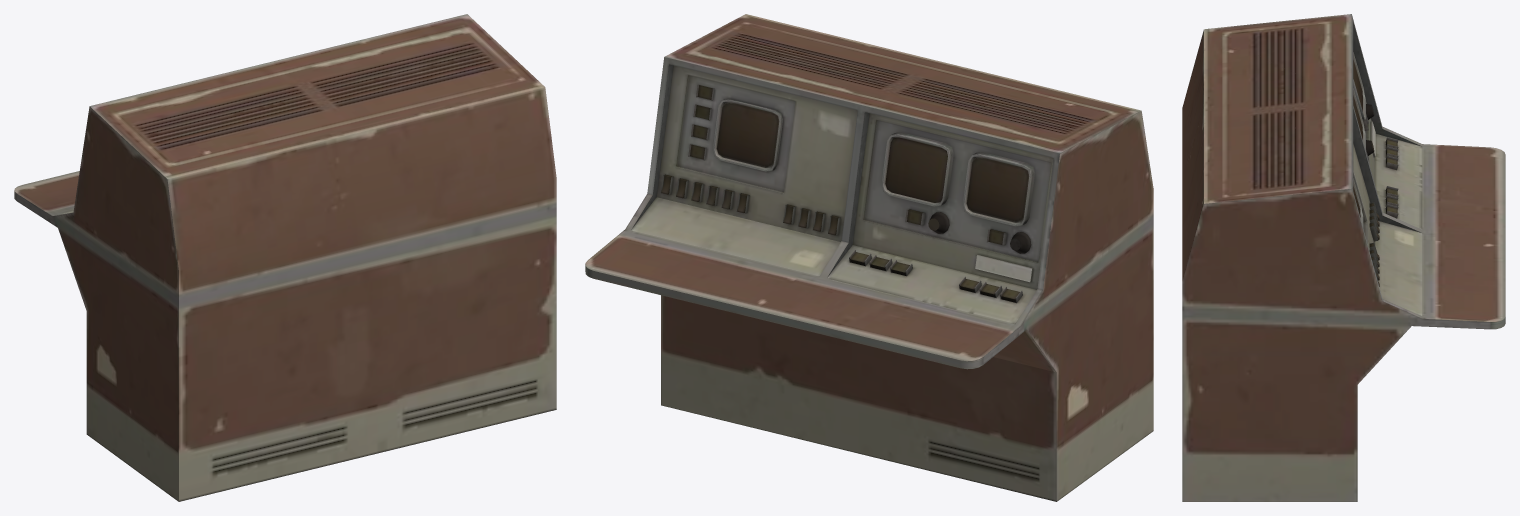
The picture shows the model from 3 angles, left to right: view 1: azimuth 30°, elevation 25°; view 2: azimuth 150°, elevation 25°; view 3: azimuth 270°, elevation 25°; orthographic projection. The views are drawn at different scales.
Visible parts, largest first — view 1: body0_model0_lod0_mesh0; view 2: body0_model0_lod0_mesh0; view 3: body0_model0_lod0_mesh0.
Boxes of the visible parts, x1,y1,x2,y2 form: body0_model0_lod0_mesh0: (14,14,556,501); body0_model0_lod0_mesh0: (585,14,1153,501); body0_model0_lod0_mesh0: (1182,14,1505,501).
Size of the model in its own units: 80 by 66.86 by 62.51.
1 material, 1 textured.
